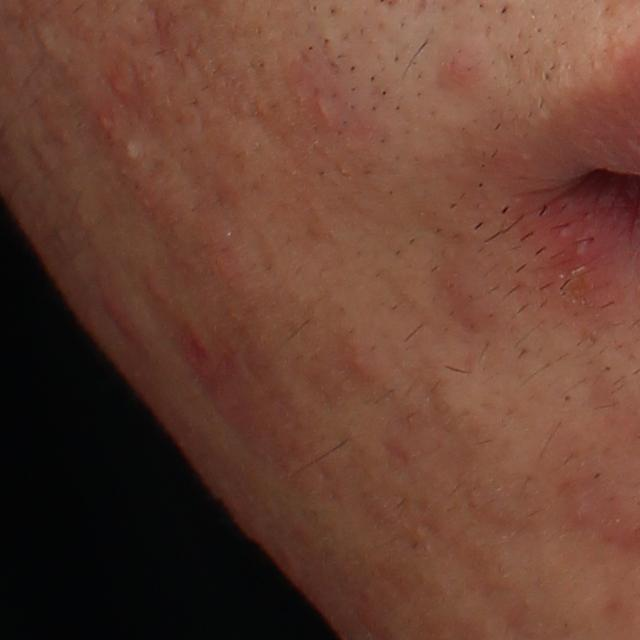papule: (337, 334, 387, 379), (439, 42, 481, 91), (100, 294, 140, 340), (143, 277, 172, 309), (109, 75, 134, 102), (90, 107, 114, 134)
pustule: (121, 136, 148, 165)
